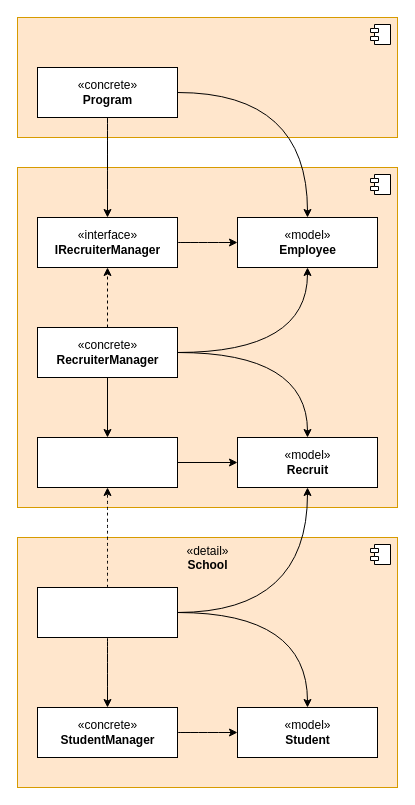
This 415x805 diagram has some shape labels left out. The shapes that lost their labels are listed below. From the top down, each one's box as (x1, y1, x2, y2) in pixels, then its label:
(16, 16, 398, 138): «detail» Main
(16, 166, 398, 508): «policy» Recruiter
(36, 436, 178, 488): «interface» IRecruitPool
(36, 586, 178, 638): «concrete» StudentPool
